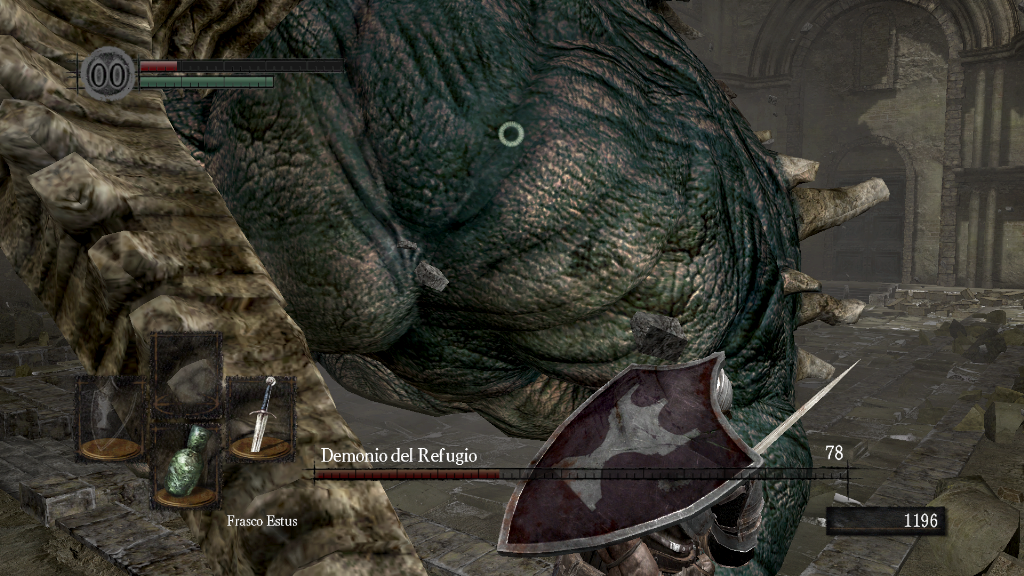asylumDemon: (1, 1, 892, 576)
bossHP: (314, 469, 847, 479)
health: (138, 58, 343, 71)
humanity: (80, 45, 136, 102)
player: (495, 349, 866, 576)
souls: (825, 506, 945, 536)
stamina: (138, 74, 274, 88)
